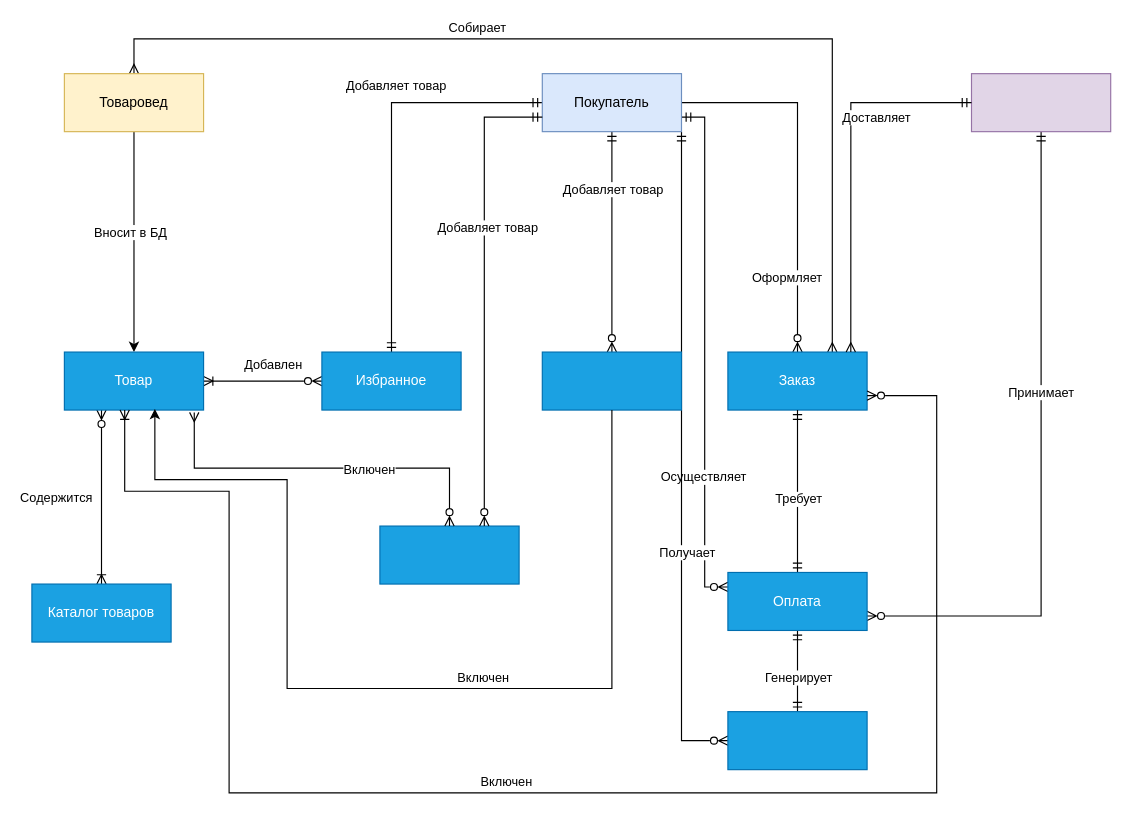
The diagram is 1131 pixels wide and 824 high, and some of its shapes have lost their labels. Each missing label, with the centre of its shape:
Корзина: the point at 611,380
Курьер: the point at 1040,102
Сравнение товаров: the point at 449,554
Чек оплаты: the point at 797,740
